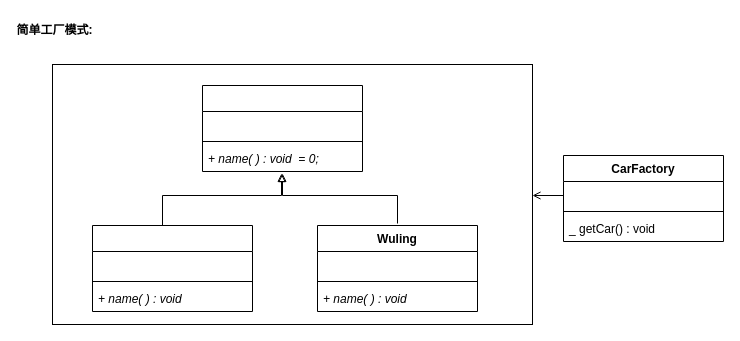
Some shapes in this 740 by 341 pixel diagram are drawn without their labels. Here are the shapes that lost their labels. From the top down, the box of each, then its label:
(202, 84, 362, 172): Car
(92, 224, 252, 312): Tesla
